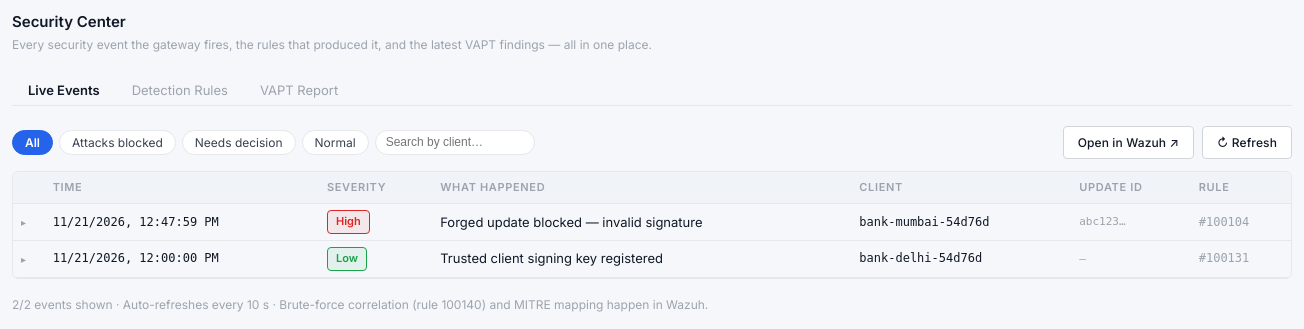
SecurityCenter — filter chips › search input filters by client
In the search field with placeholder "Search by client…": [455, 142] box [375,130,535,155], type "bank-delhi"
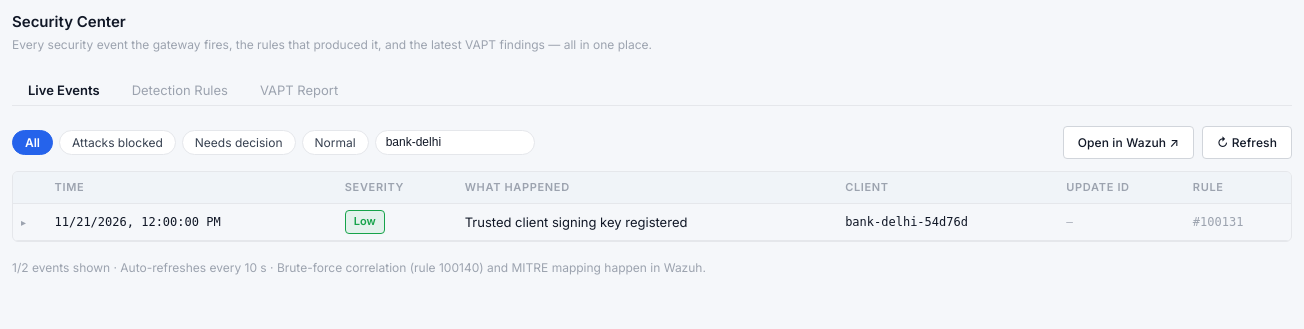
expect the text "Forged update blocked" is gone: met
